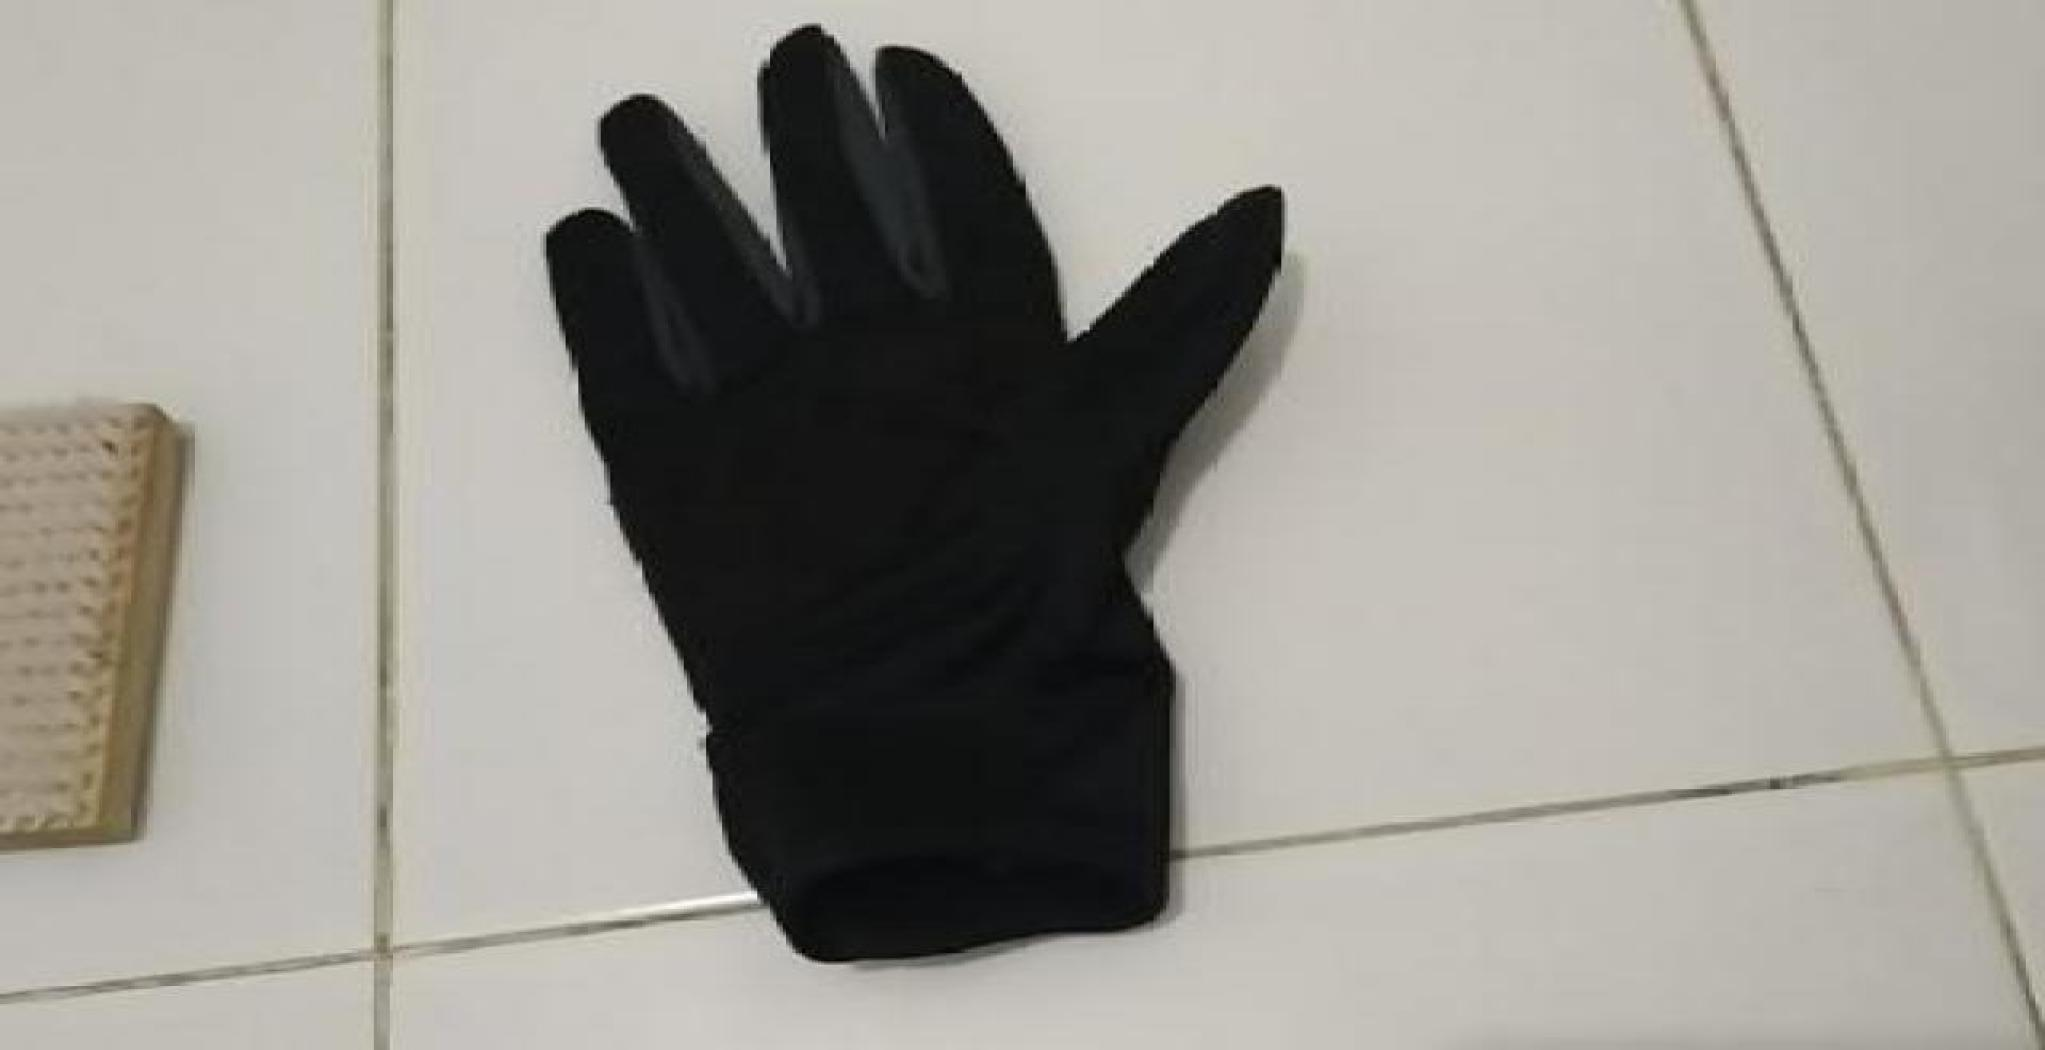gloved: (537, 21, 1284, 963)
